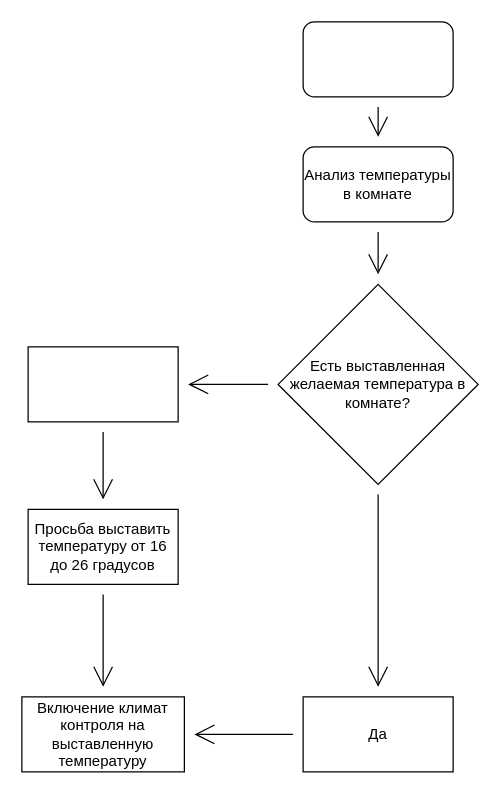
Image size: 500x794. Some labels were removed from this diagram. Each missing label, with the centre of its shape:
"Включение кондиционера" belongs at [377,59].
"Нет" belongs at [102,384].
